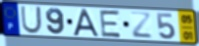5: (156, 12, 177, 40)
9: (44, 6, 66, 36)
A: (71, 8, 101, 38)
E: (99, 9, 123, 39)
U: (20, 6, 44, 36)
Z: (129, 10, 154, 40)
